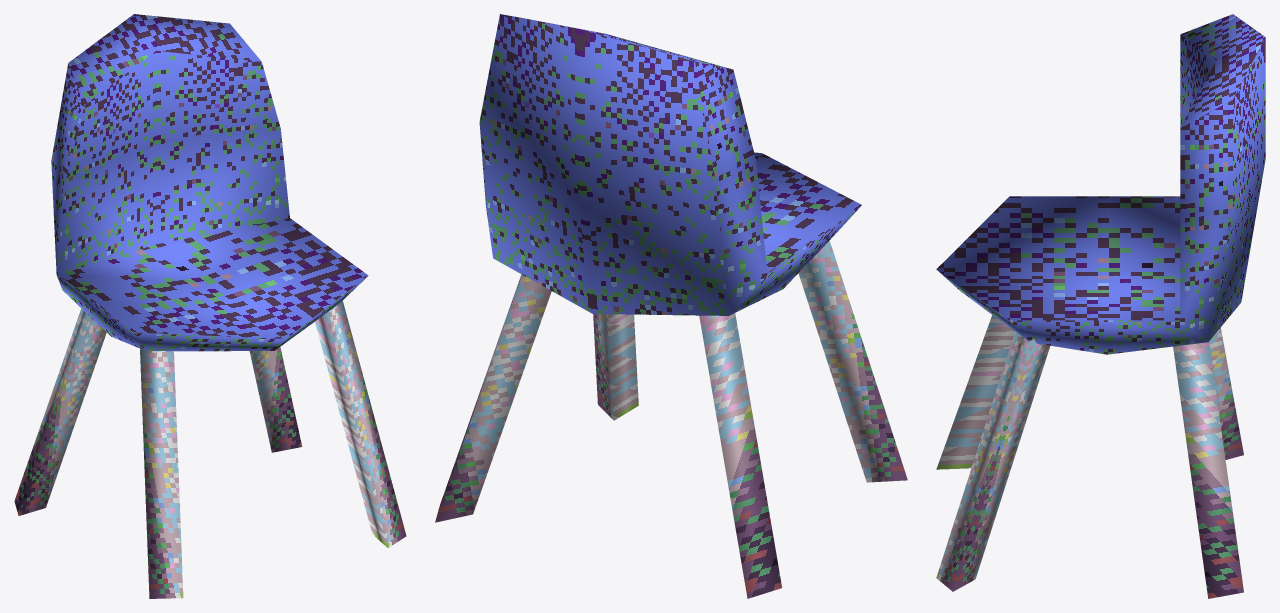
The model's file is chair.glb.
3 views of the same model, side by side, from view 1: azimuth 30°, elevation 25°; view 2: azimuth 150°, elevation 25°; view 3: azimuth 270°, elevation 25° (orthographic). The views are drawn at different scales.
Parts seen in each view (by area): view 1: Cube; view 2: Cube; view 3: Cube.
Boxes of the visible parts, x1,y1,x2,y2 form: Cube: (14, 14, 406, 598); Cube: (435, 14, 907, 598); Cube: (936, 14, 1265, 598).
Bounding box in the file's own units: 1.46 × 2.2 × 1.35.
Materials: 1 (1 with a texture image).
